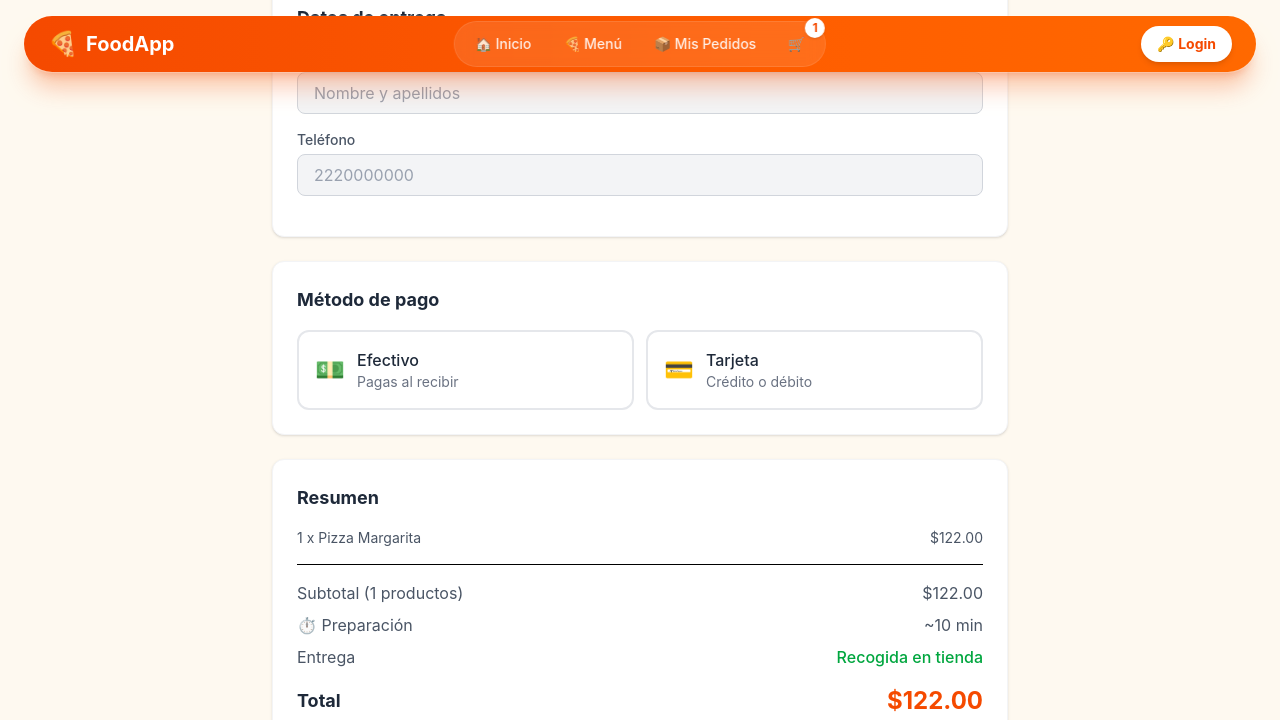
Test: CheckoutPage - selector de método de pago › marca error si confirma con Tarjeta y datos de tarjeta inválidos
(page scrolled)
Click the text "Tarjeta" at [732, 360], box [706,350,759,370]
(page scrolled)
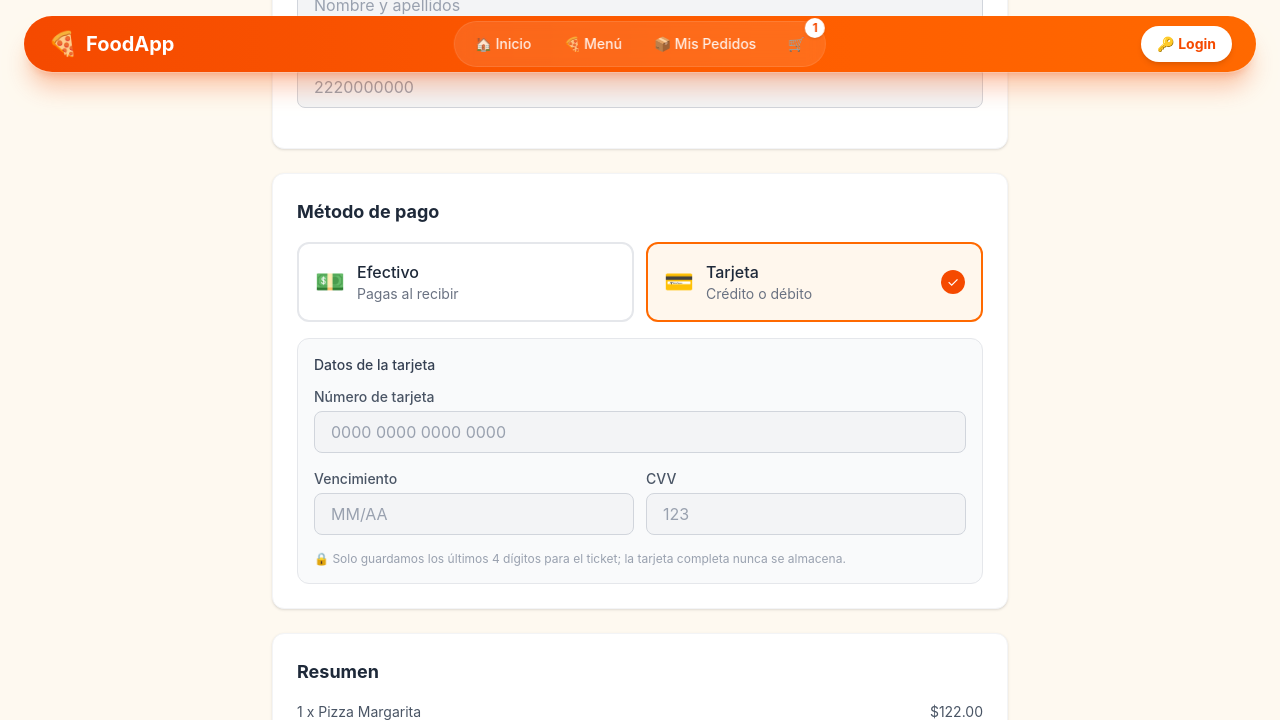
Submit the form named "Confirmar pedido"
(page scrolled)
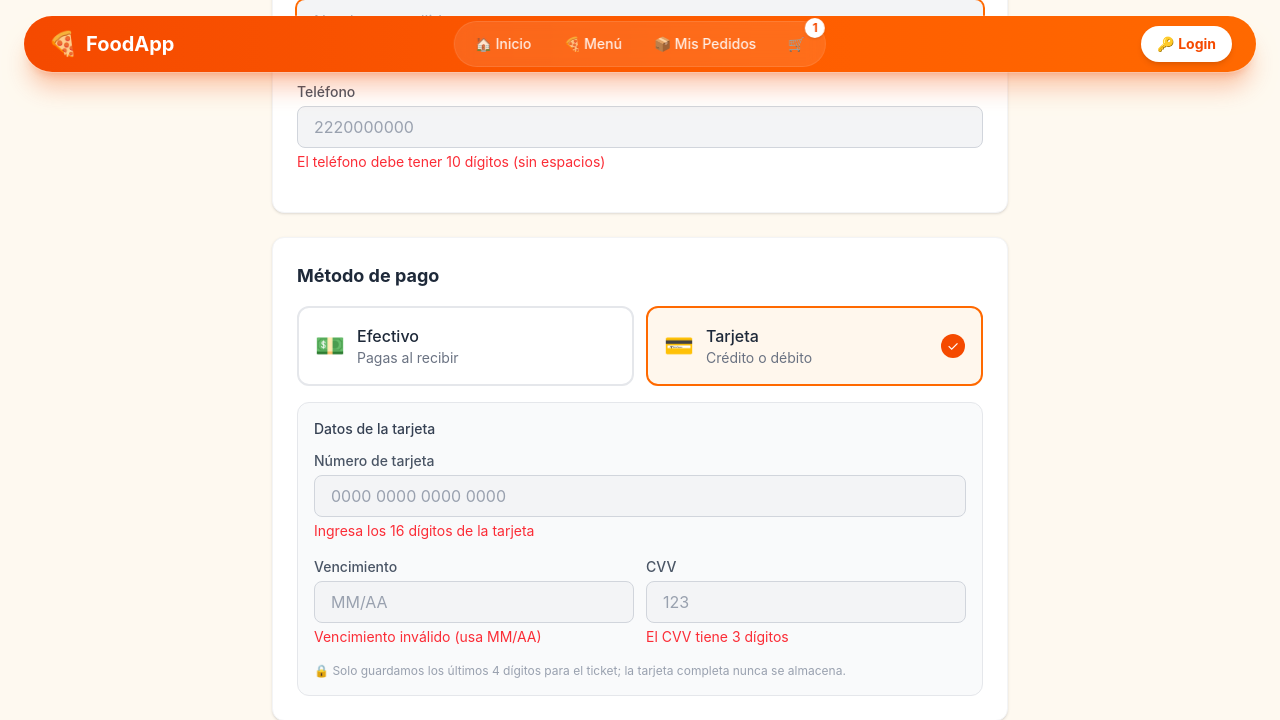
expect the text "Ingresa los 16 dígitos de la tarjeta" is shown: met, box [314,522,534,539]
expect the text "Vencimiento inválido (usa MM/AA)" is shown: met, box [314,628,542,645]
expect the text "El CVV tiene 3 dígitos" is shown: met, box [646,628,789,645]
